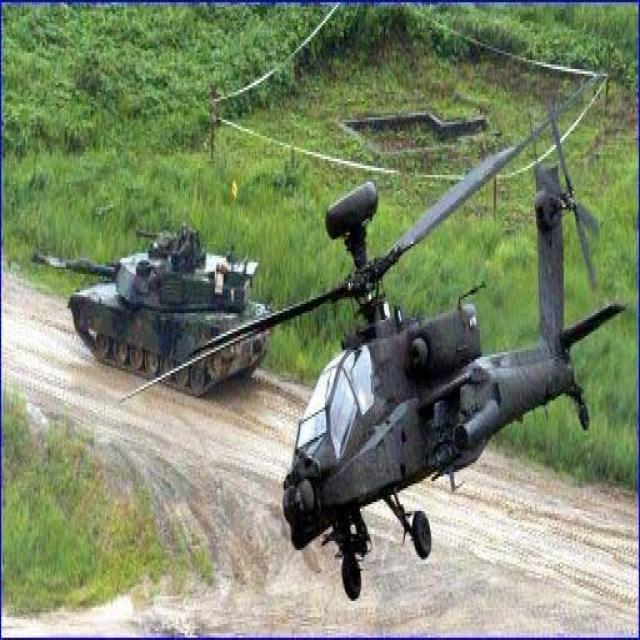MIL_HELO: (95, 61, 640, 603)
